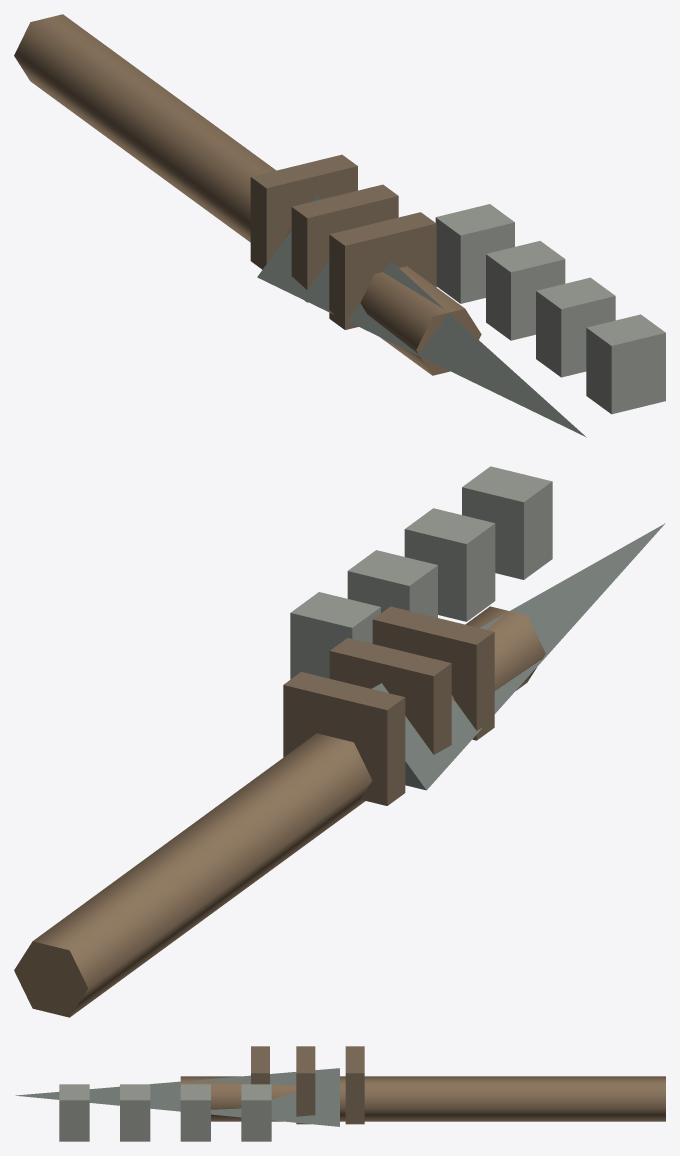
File: spread-portable-forged-spike-oak-serrated.fbx
3 views of the same model, one above another, from view 1: azimuth 30°, elevation 25°; view 2: azimuth 150°, elevation 25°; view 3: azimuth 270°, elevation 25° (orthographic). The views are drawn at different scales.
Parts seen in each view (by area): view 1: spread-portable-forged-spike-oak-serrated__Geometry; view 2: spread-portable-forged-spike-oak-serrated__Geometry; view 3: spread-portable-forged-spike-oak-serrated__Geometry.
Part boxes in pixels (x1=…): spread-portable-forged-spike-oak-serrated__Geometry: x1=14, y1=14, x2=665, y2=437; spread-portable-forged-spike-oak-serrated__Geometry: x1=14, y1=466, x2=665, y2=1017; spread-portable-forged-spike-oak-serrated__Geometry: x1=15, y1=1046, x2=665, y2=1141.
Size of the model in its own units: 0.162 by 0.083 by 0.86.
